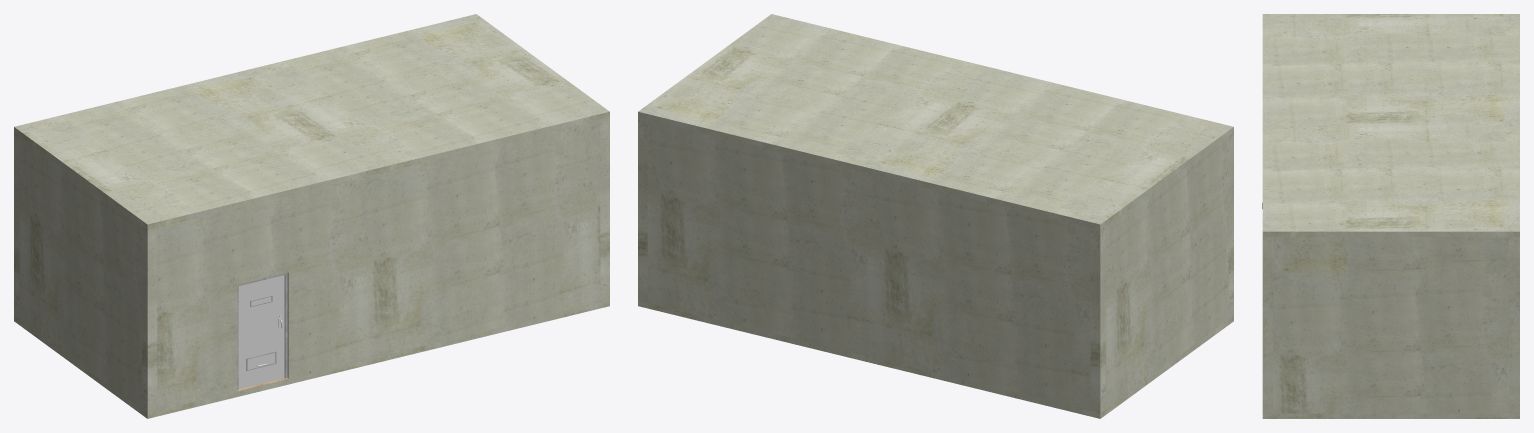
The model's file is Cell2.fbx.
3 renders of one model, left to right at view 1: azimuth 30°, elevation 25°; view 2: azimuth 150°, elevation 25°; view 3: azimuth 270°, elevation 25°, orthographic. The views are drawn at different scales.
Visible parts, largest first — view 1: Wall.025, Wall.021, Wall.024, Cube.004, Wall.030, Wall.028, Wall.029, Wall.026, Door.003; view 2: Wall.022, Wall.021, Wall.024, Wall.030, Wall.026, Wall.027, Wall.028; view 3: Wall.021, Wall.023, Wall.029, Wall.027, Wall.030.
Part boxes in pixels (<box>): Wall.025: <box>157,120,600,410</box>; Wall.021: <box>14,14,609,229</box>; Wall.024: <box>19,137,141,408</box>; Cube.004: <box>238,275,284,389</box>; Wall.030: <box>14,300,609,418</box>; Wall.028: <box>142,226,157,413</box>; Wall.029: <box>600,117,609,302</box>; Wall.026: <box>14,132,19,319</box>; Door.003: <box>237,273,287,390</box>; Wall.022: <box>647,120,1090,410</box>; Wall.021: <box>638,14,1233,229</box>; Wall.024: <box>1106,137,1228,408</box>; Wall.030: <box>638,300,1233,418</box>; Wall.026: <box>1090,226,1105,413</box>; Wall.027: <box>638,117,647,302</box>; Wall.028: <box>1228,132,1233,319</box>; Wall.021: <box>1262,14,1519,236</box>; Wall.023: <box>1273,237,1508,413</box>; Wall.029: <box>1262,237,1273,413</box>; Wall.027: <box>1509,237,1519,413</box>; Wall.030: <box>1262,413,1519,418</box>.
Bounding box in the file's own units: 205 × 82.29 × 103.
Materials: 11 (6 with a texture image).
